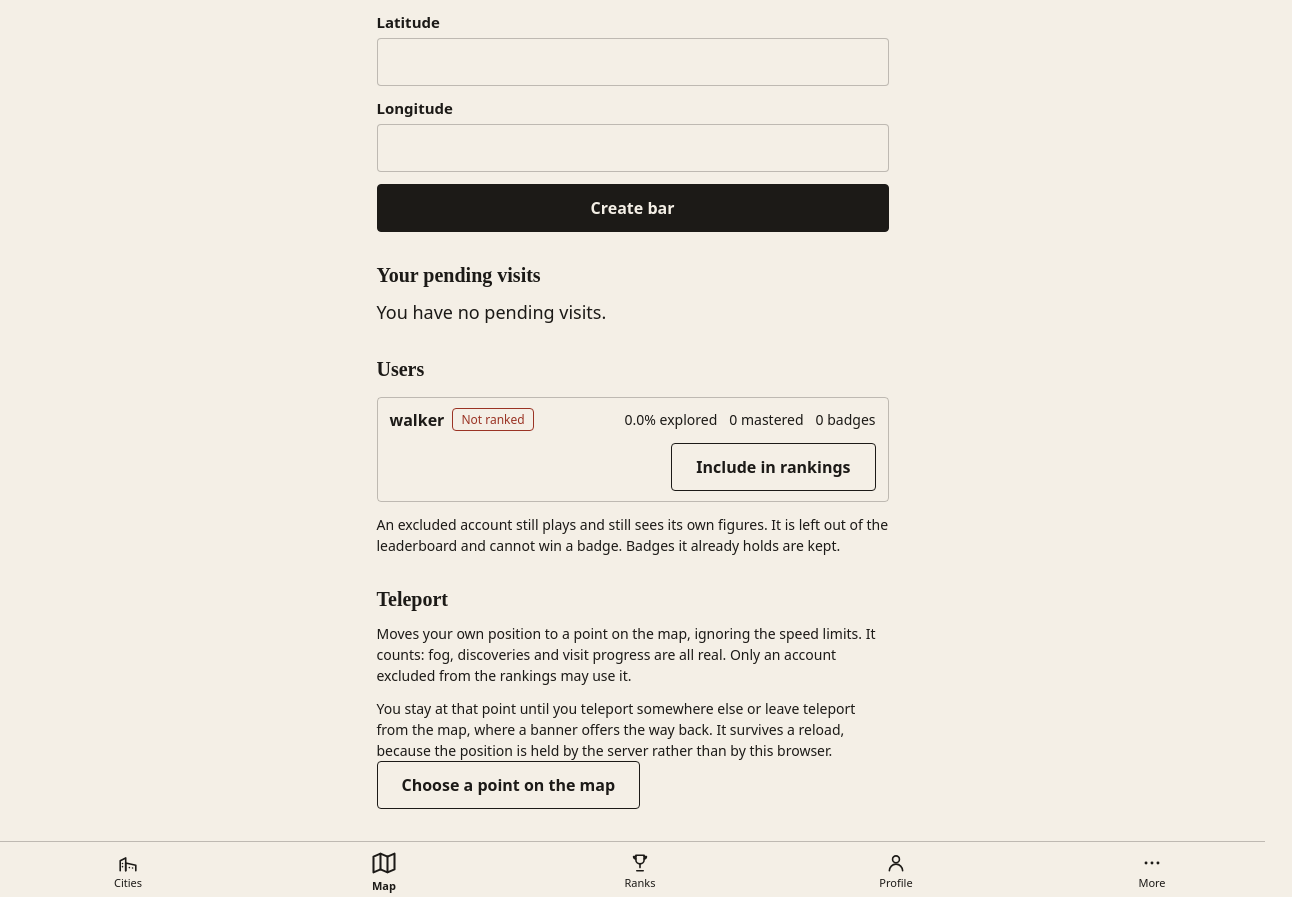
admin ranking exclusion › puts an account back and asks the server for exactly that
The width and height of the screenshot is (1292, 897).
(page scrolled)
Click the button with class "admin-user-row__toggle" at (773, 467), box [671, 443, 876, 491]
(page scrolled)
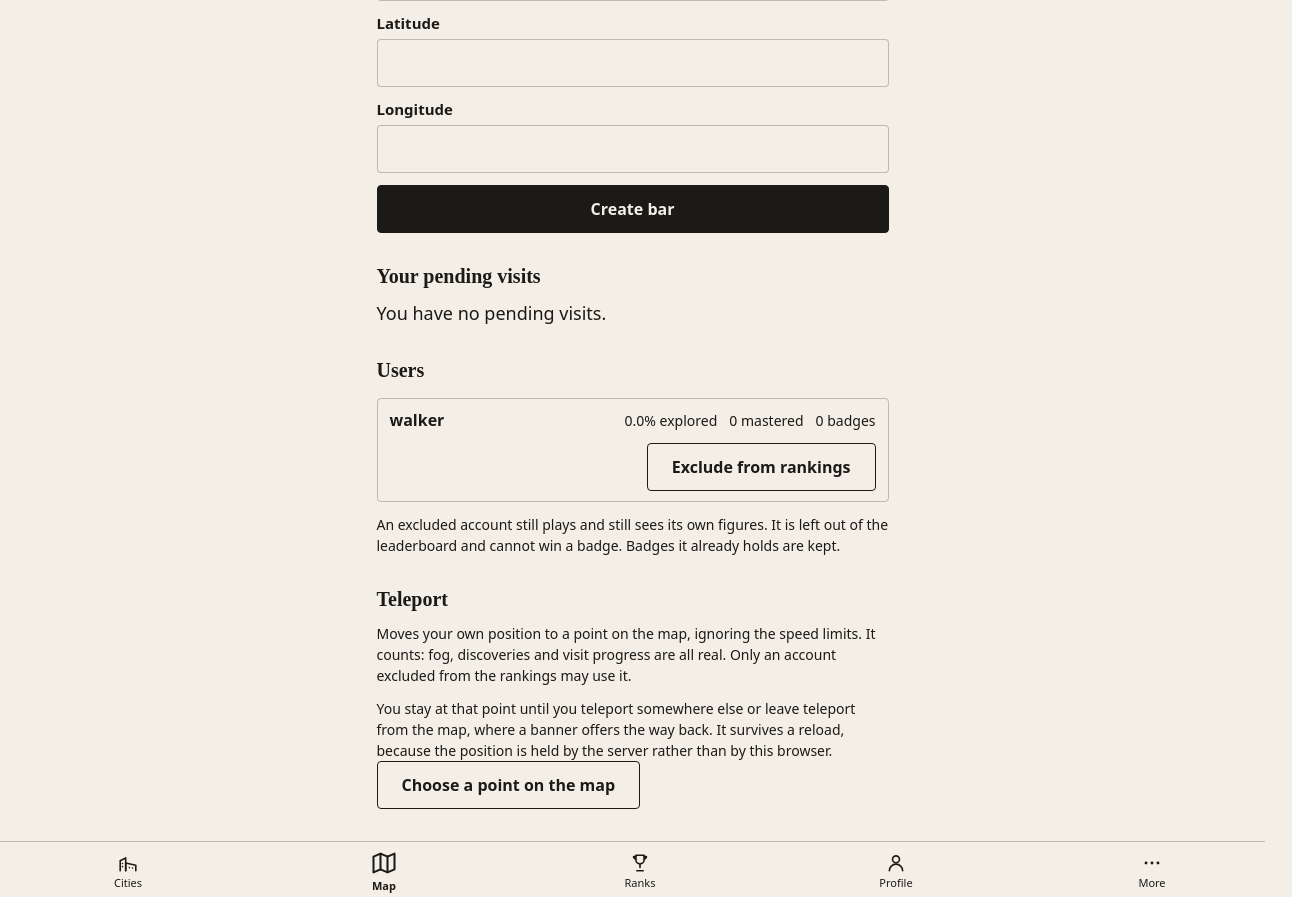
Now the button with class "admin-user-row__toggle" reads "Exclude from rankings", box [647, 443, 876, 491]
Now the text with class "admin-bar-row__tag--hidden" is gone
